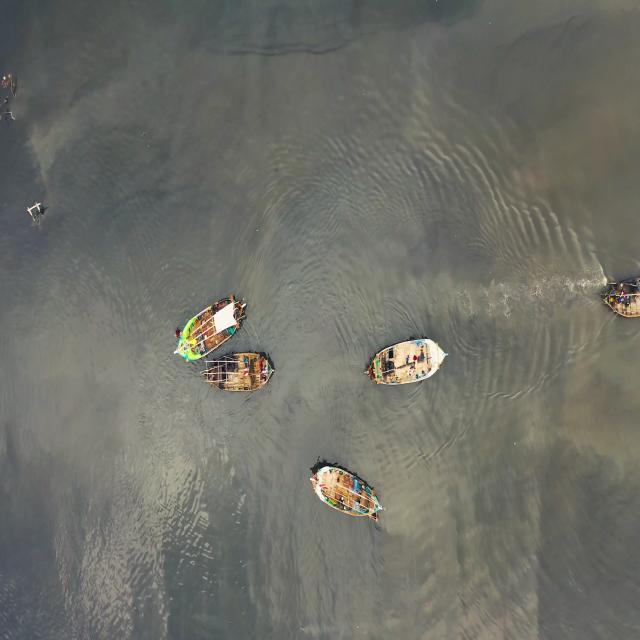ship: (171, 294, 249, 362), (311, 462, 381, 526), (362, 336, 452, 381), (203, 349, 277, 395), (600, 270, 638, 327)
